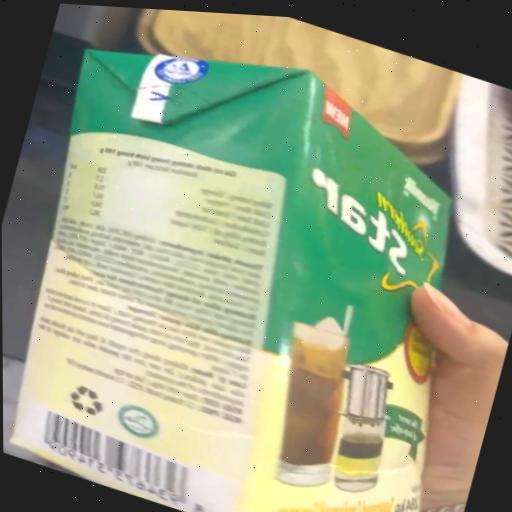ly_giay: (13, 51, 448, 512)
